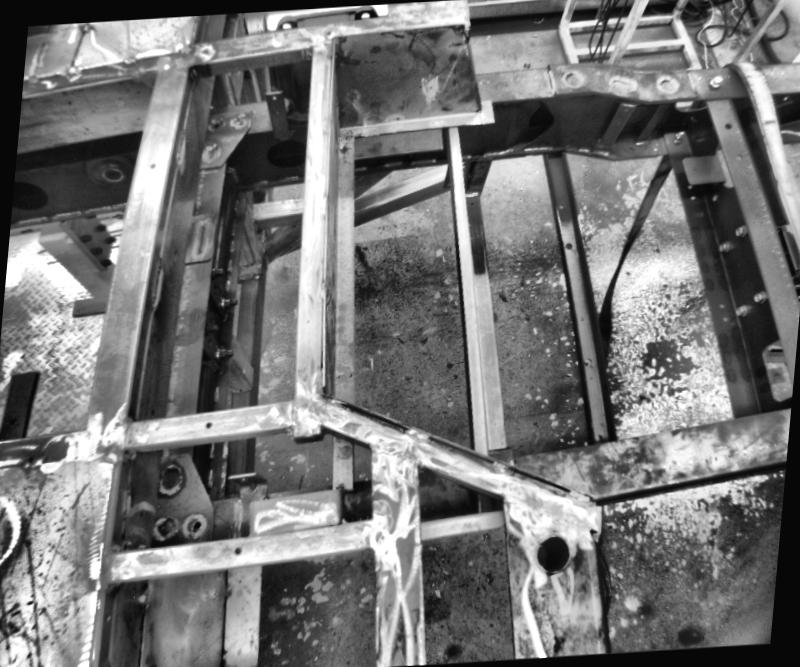bolt: (214, 344, 234, 358), (220, 294, 239, 308), (210, 262, 226, 278), (749, 288, 764, 304), (708, 74, 722, 90), (672, 128, 688, 142), (716, 241, 731, 254), (733, 304, 745, 316), (734, 226, 745, 238)
bracket: (0, 365, 41, 439), (672, 145, 726, 201), (751, 336, 795, 404), (260, 86, 300, 144), (69, 290, 113, 318)
hole: (532, 531, 574, 571), (12, 176, 50, 214), (102, 163, 128, 181), (230, 543, 242, 554), (10, 414, 22, 425), (585, 355, 594, 366), (148, 160, 158, 169), (192, 520, 202, 528), (205, 419, 214, 427), (564, 240, 573, 248), (596, 431, 604, 440), (558, 201, 568, 208), (720, 316, 728, 324), (724, 120, 733, 127), (716, 303, 722, 308), (274, 96, 278, 99), (470, 201, 472, 205)
